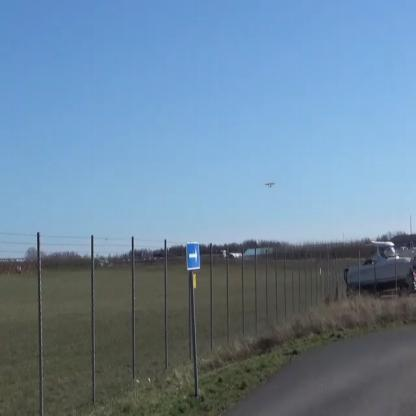CIV_Plane: (258, 173, 282, 192)
